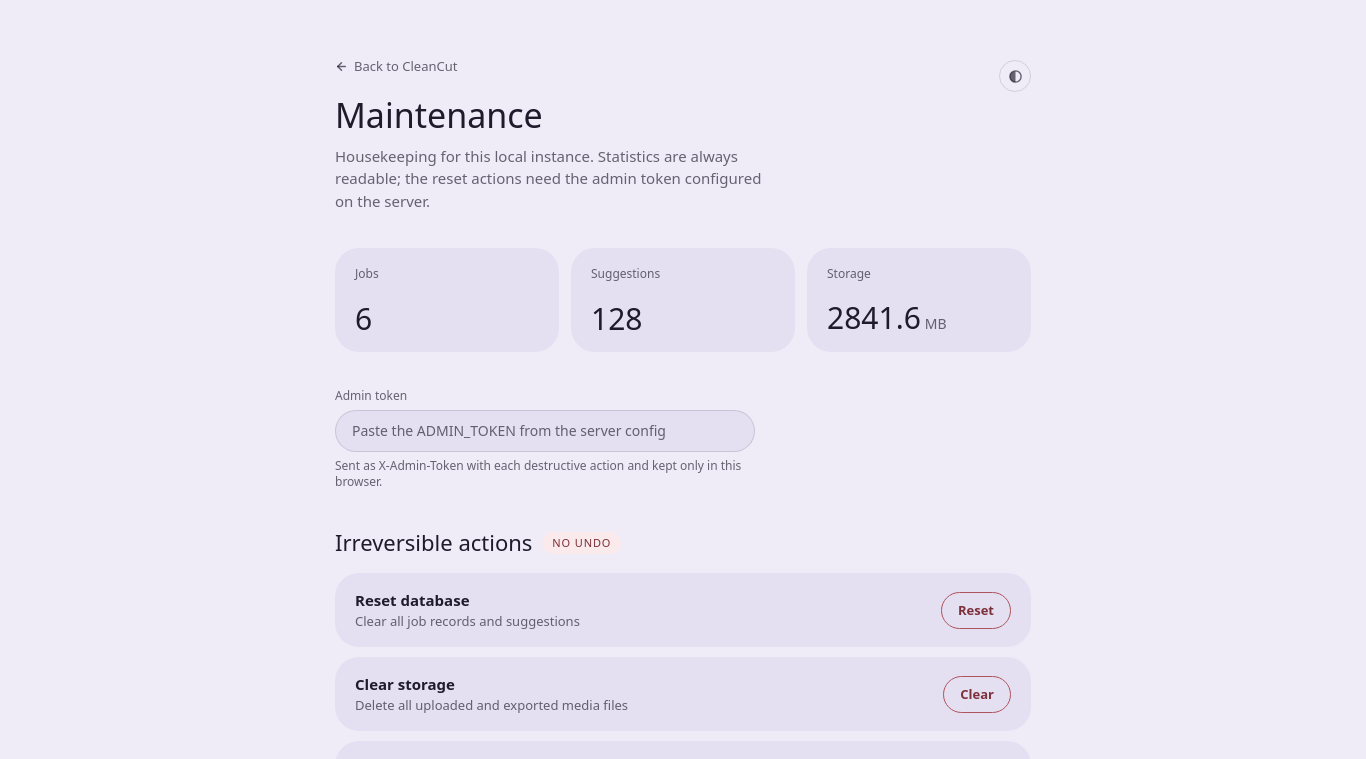
Test: running an action › shows the server's refusal rather than swallowing it
Click the button "Reset" at (976, 610), box [941,592,1011,629]
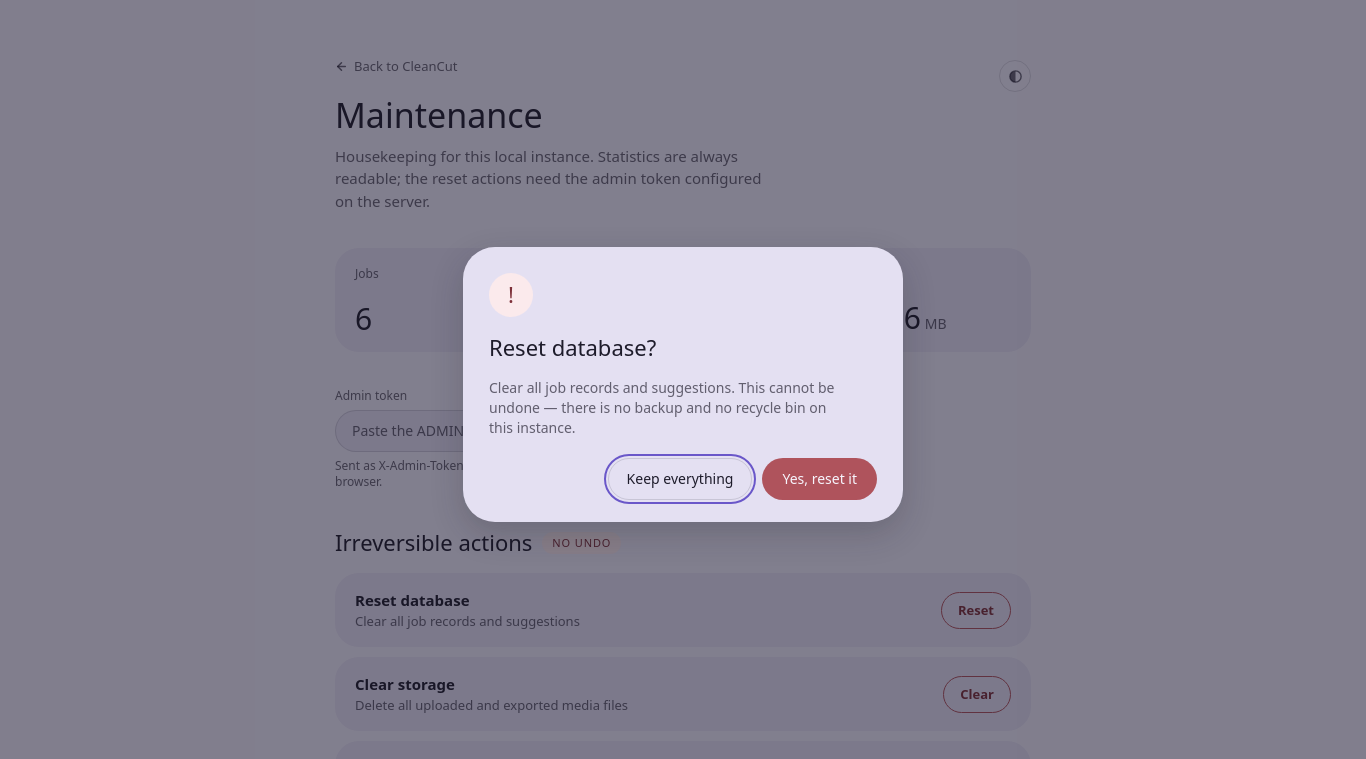
Click the button "Yes, reset it" at (820, 478), box [762,458,877,500]
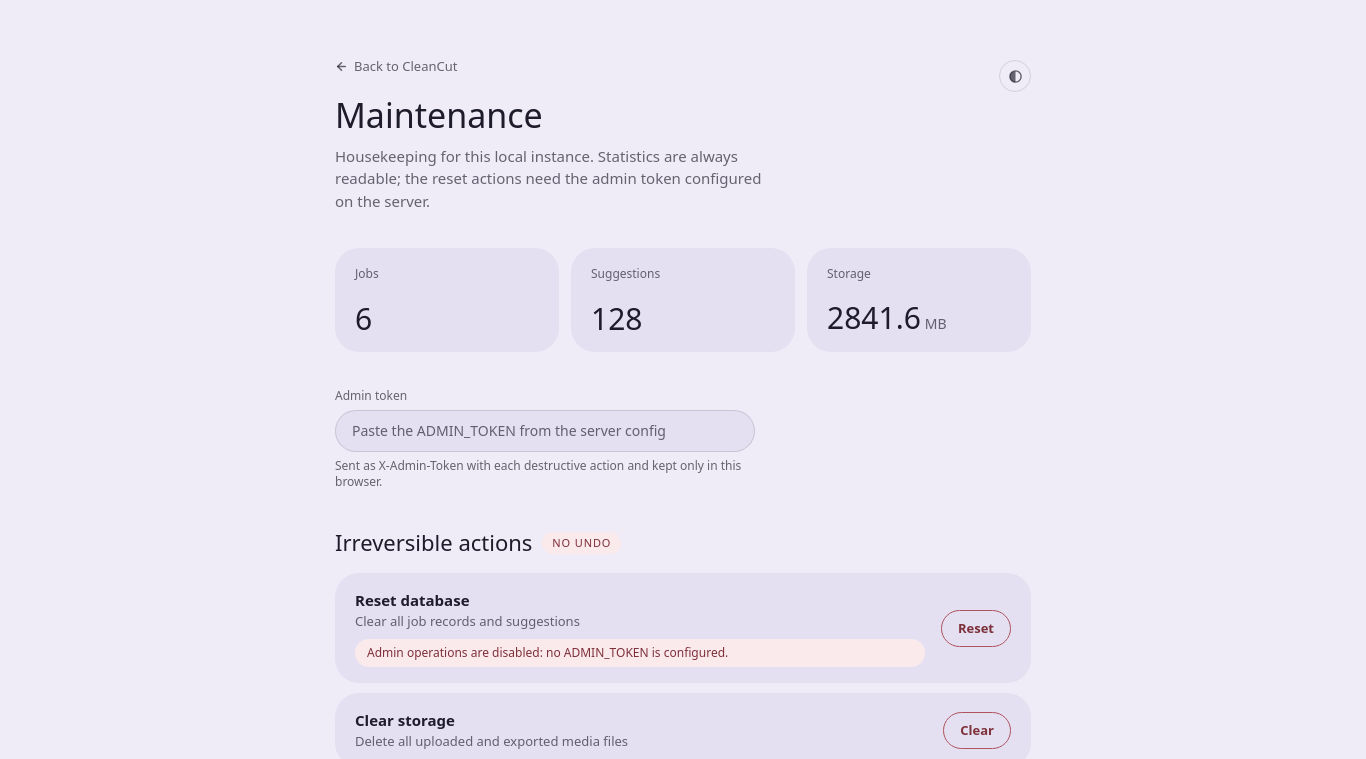
Result: the text "Admin operations are disabled: no ADMIN_TOKEN is configured." is shown at [355,639,925,667]
